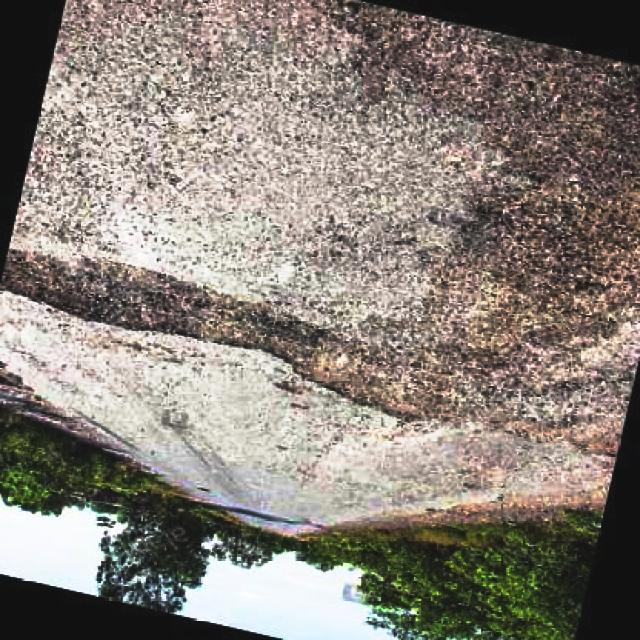pothole: (0, 234, 431, 426), (484, 26, 640, 357)
